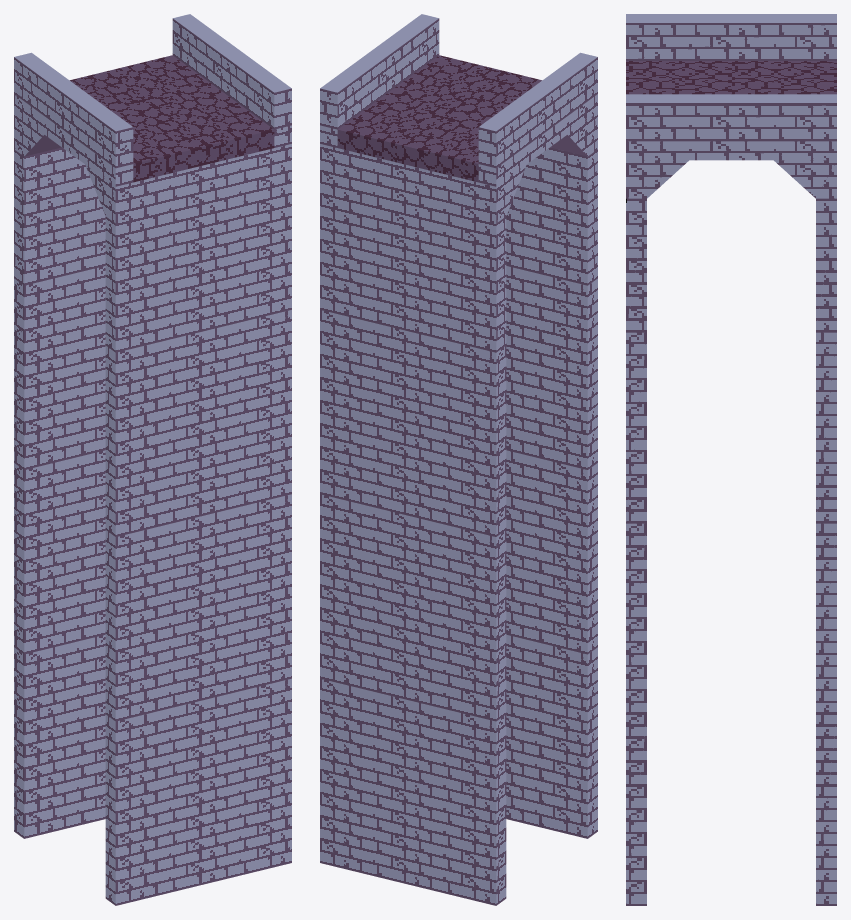
Rendered from stone_bridge.glb.
The picture shows the model from 3 angles, left to right: view 1: azimuth 30°, elevation 25°; view 2: azimuth 150°, elevation 25°; view 3: azimuth 270°, elevation 25°; orthographic projection. The views are drawn at different scales.
Parts seen in each view (by area): view 1: stone_bridge; view 2: stone_bridge; view 3: stone_bridge.
Boxes of the visible parts, x1=… form: stone_bridge: x1=14, y1=14, x2=291, y2=905; stone_bridge: x1=320, y1=14, x2=597, y2=905; stone_bridge: x1=626, y1=14, x2=836, y2=905.
Size of the model in its own units: 5 by 21 by 5.
1 material, 1 textured.
